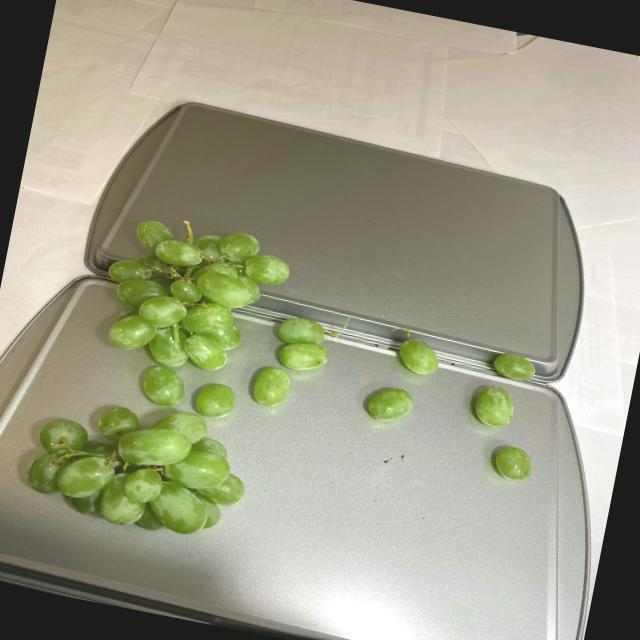grapes: (17, 198, 344, 554), (357, 326, 551, 474)
